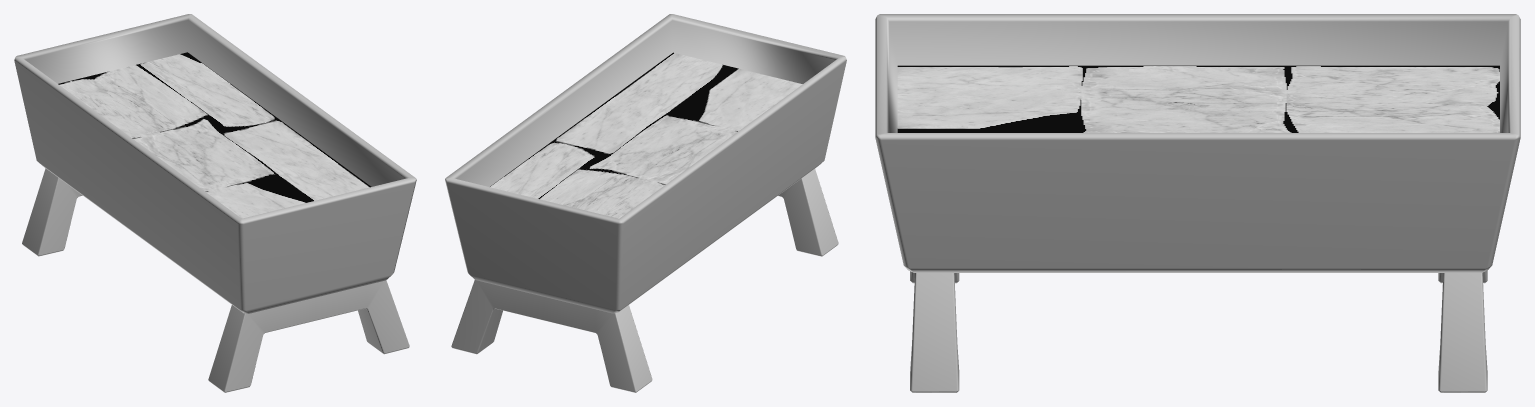
File: livestock_water_bowl_exp6.FBX
3 views of the same model, side by side, from view 1: azimuth 30°, elevation 25°; view 2: azimuth 150°, elevation 25°; view 3: azimuth 270°, elevation 25° (orthographic). The views are drawn at different scales.
Parts seen in each view (by area): view 1: livestock_water_bowl_exp6; view 2: livestock_water_bowl_exp6; view 3: livestock_water_bowl_exp6.
Boxes of the visible parts, x1=… form: livestock_water_bowl_exp6: x1=14, y1=14, x2=416, y2=392; livestock_water_bowl_exp6: x1=445, y1=14, x2=846, y2=392; livestock_water_bowl_exp6: x1=875, y1=14, x2=1520, y2=392.
Size of the model in its own units: 59.75 by 55.15 by 127.
